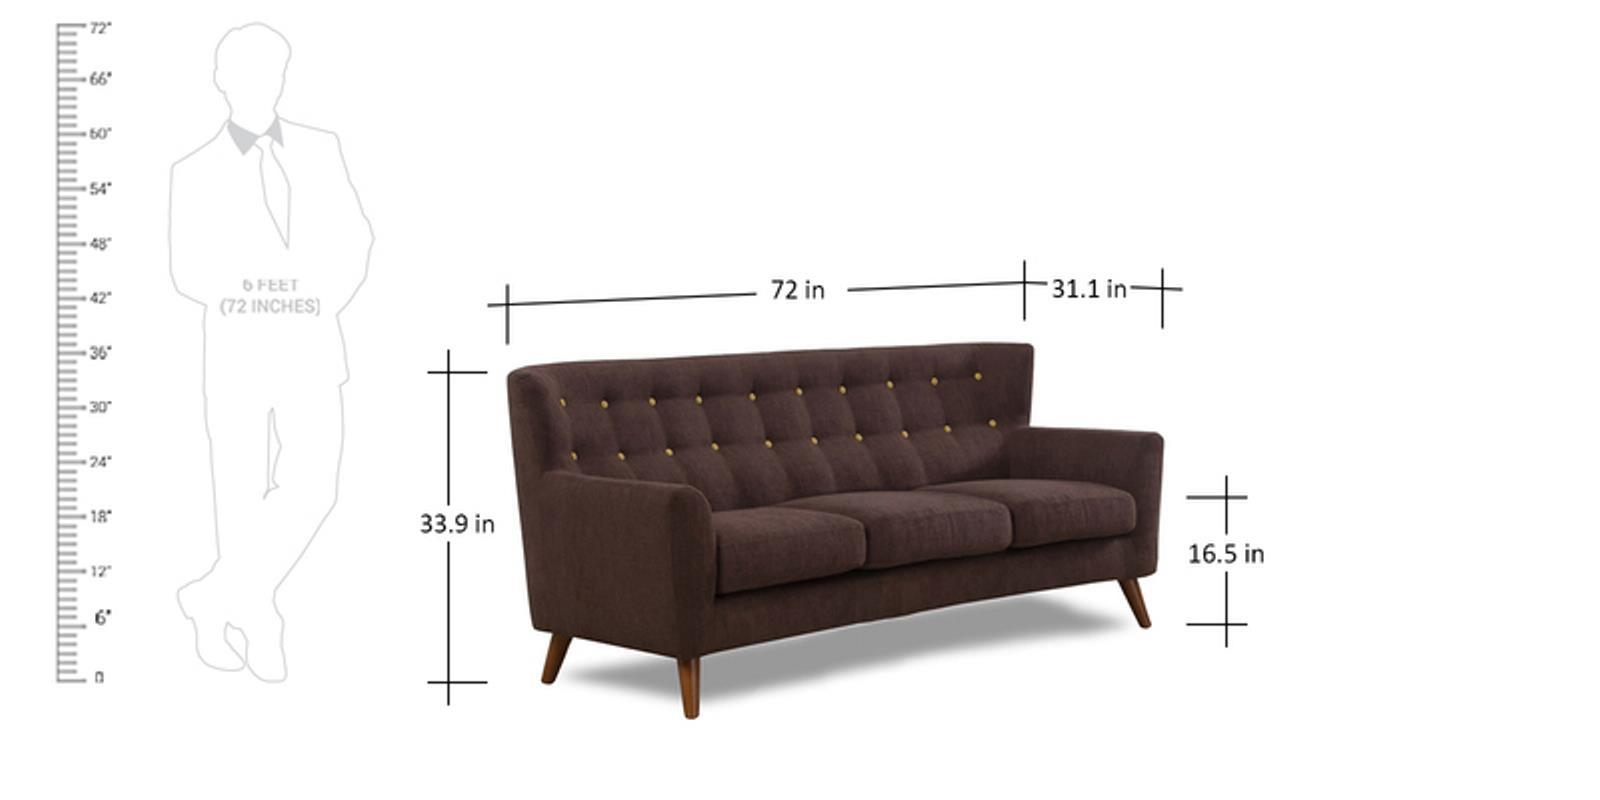Havana Three Seater Sofa in Dark Brown Colour by CasaCraft: (493, 340, 1195, 727)
